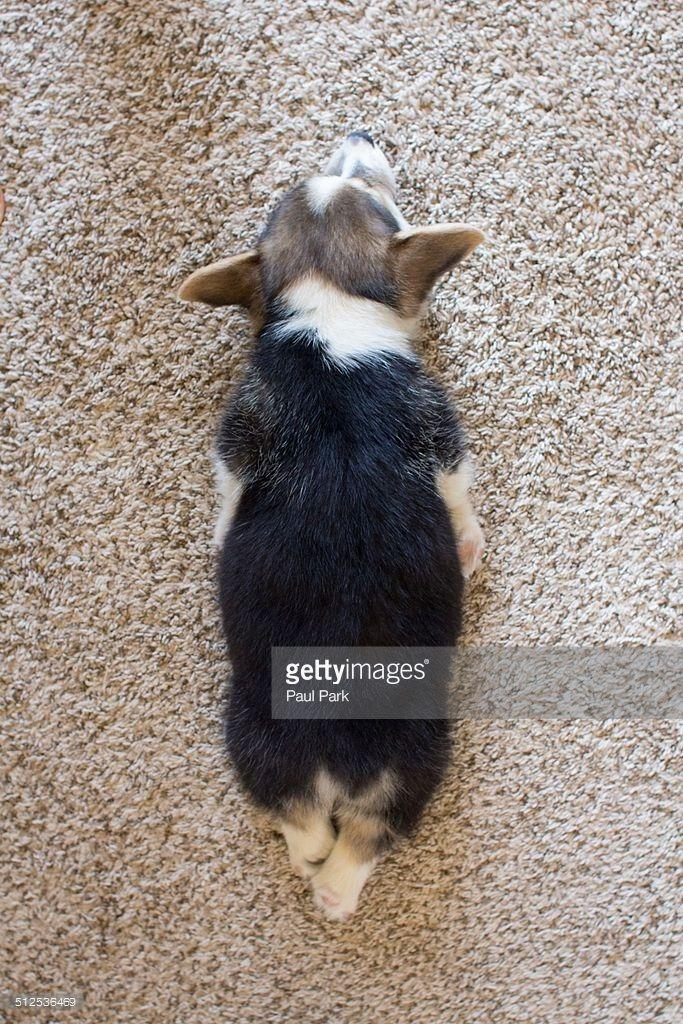puppy-dog: (173, 125, 491, 922)
